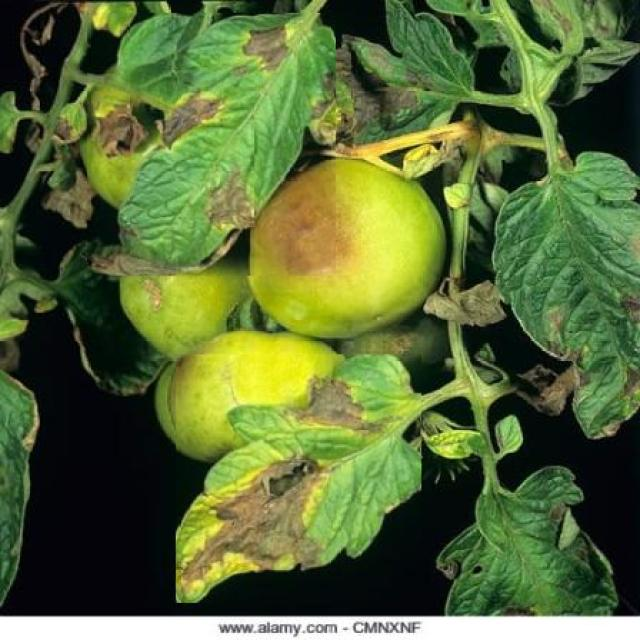Early Blight: (87, 13, 336, 276), (176, 354, 421, 603)
